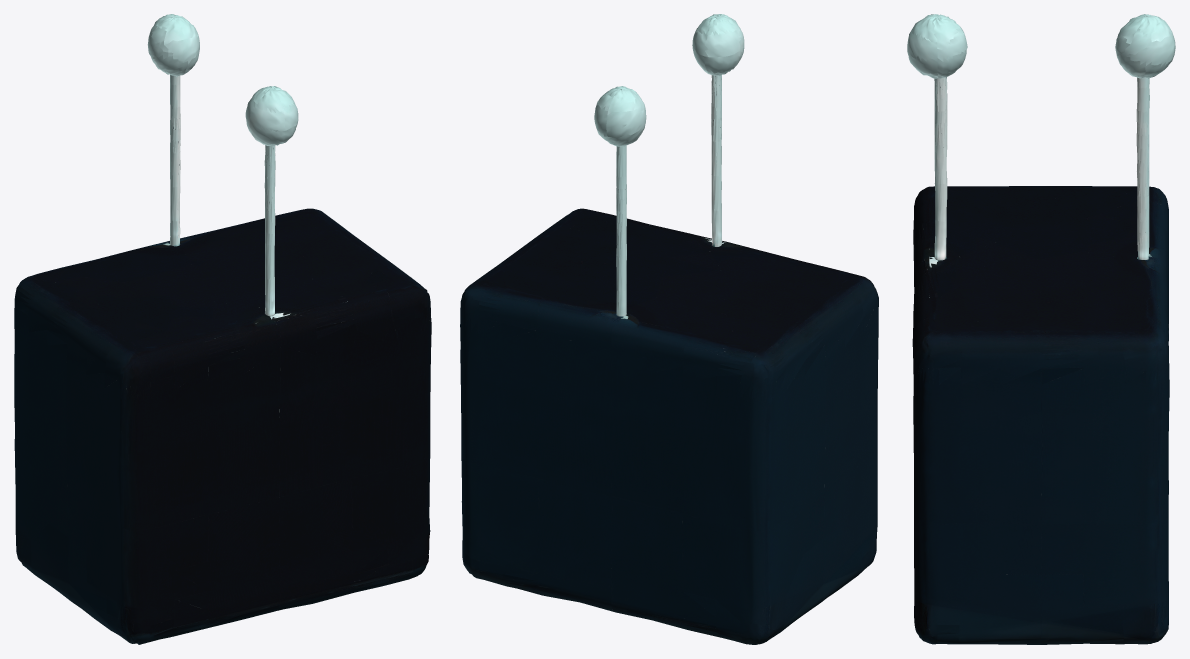
File: network-defense.glb
3 renders of one model, left to right at view 1: azimuth 30°, elevation 25°; view 2: azimuth 150°, elevation 25°; view 3: azimuth 270°, elevation 25°, orthographic. The views are drawn at different scales.
Bounding box in the file's own units: 0.6289 × 1 × 0.4385.
1 material, 1 textured.
